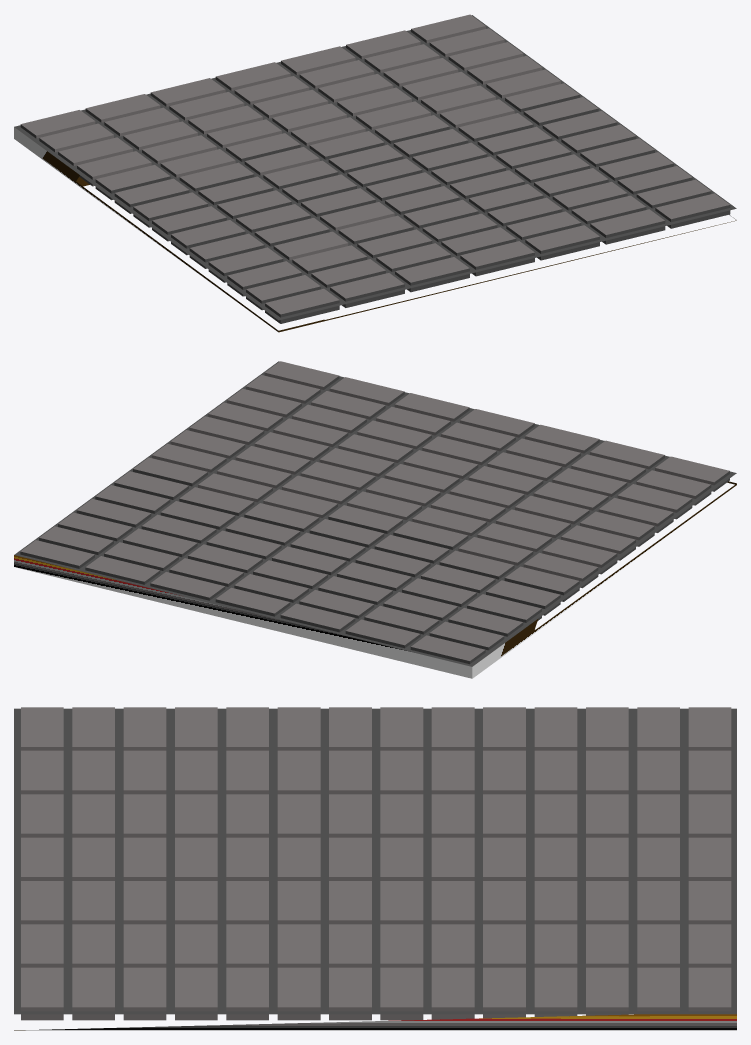
The model's file is Floor.fbx.
3 views of the same model, one above another, from view 1: azimuth 30°, elevation 25°; view 2: azimuth 150°, elevation 25°; view 3: azimuth 270°, elevation 25° (orthographic). The views are drawn at different scales.
Parts seen in each view (by area): view 1: Floor; view 2: Floor; view 3: Floor.
Boxes of the visible parts, left/top/right/bottom form: Floor: left=14, top=14, right=736, bottom=332; Floor: left=14, top=361, right=736, bottom=678; Floor: left=14, top=707, right=736, bottom=1030.
Bounding box in the file's own units: 1000 × 31.37 × 1000.
